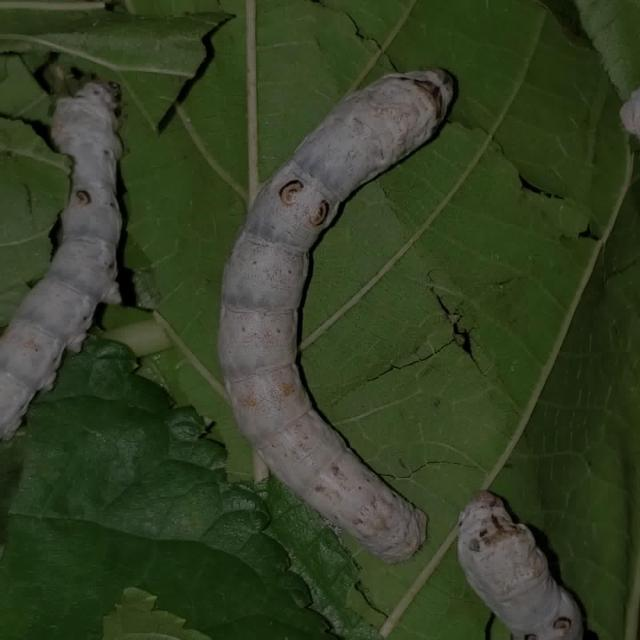Healthy: (194, 48, 466, 561)
